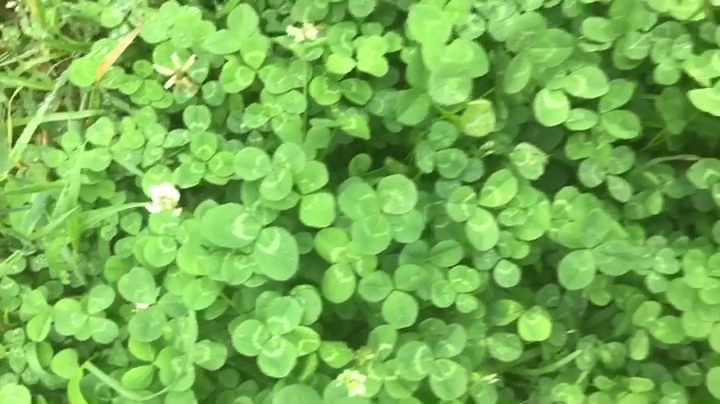4-clover: (340, 179, 427, 252)
